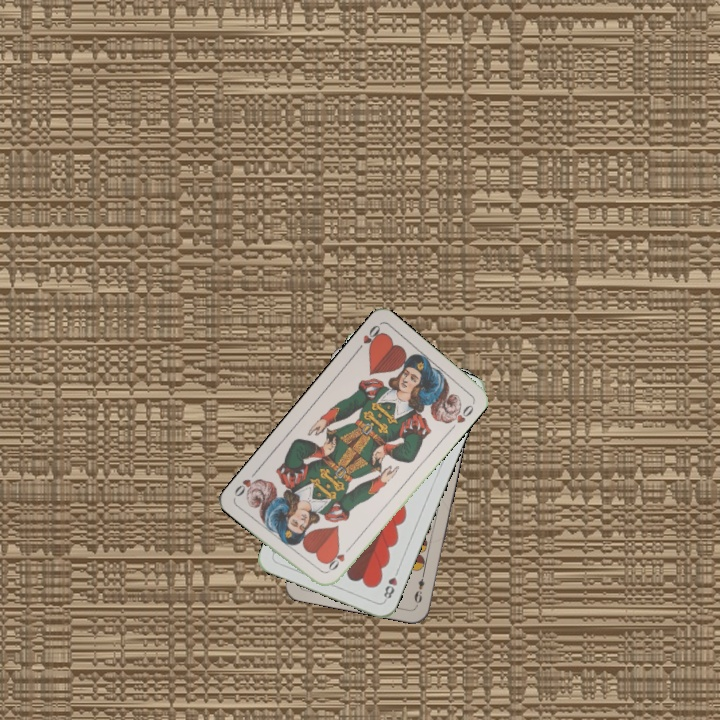E9: (410, 568, 427, 606)
H8: (380, 565, 402, 603)
HO: (352, 321, 384, 355), (322, 543, 354, 576)
